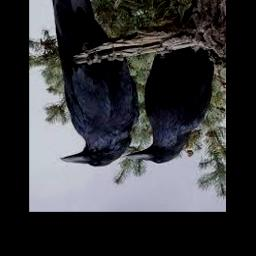Crow: (49, 0, 140, 167), (126, 45, 215, 164)
